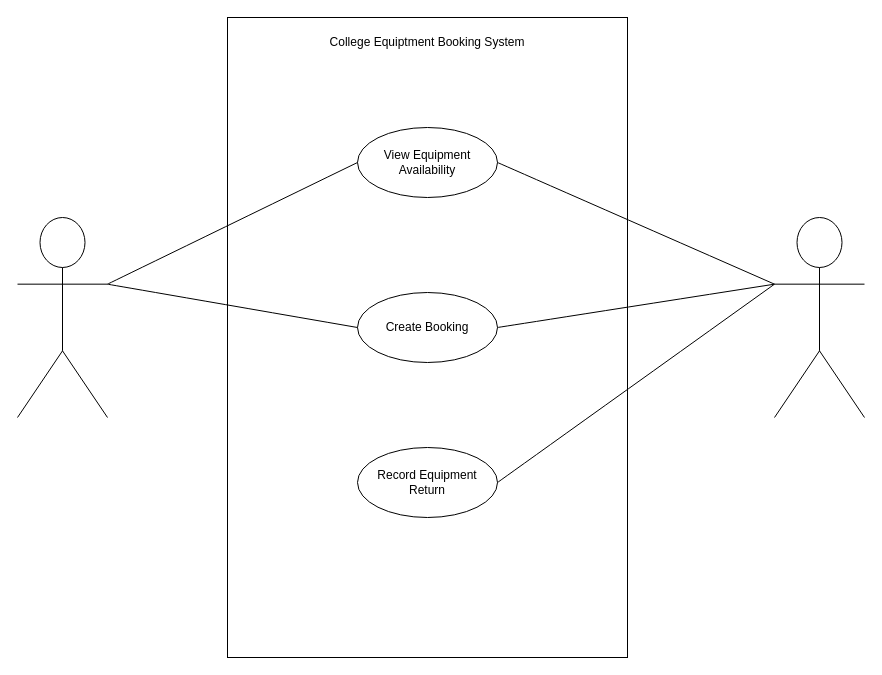
This 882x675 diagram has some shape labels left out. The shapes that lost their labels are listed below. From the top down, each one's box as (x1, y1, x2, y2) in pixels, then its label:
(16, 216, 108, 418): Student
(774, 216, 864, 418): Staff
